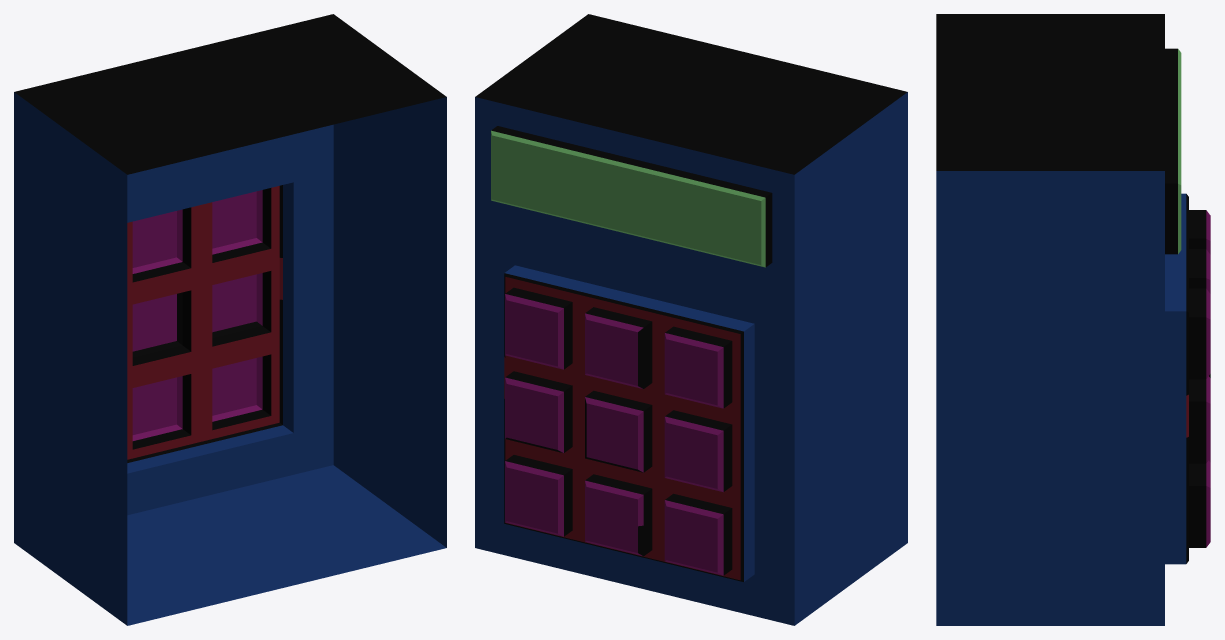
File: staticMesh_prop_CodeLock_UV.fbx
3 views of the same model, side by side, from view 1: azimuth 30°, elevation 25°; view 2: azimuth 150°, elevation 25°; view 3: azimuth 270°, elevation 25° (orthographic).
Parts seen in each view (by area): view 1: pCube2; view 2: pCube2; view 3: pCube2.
Part boxes in pixels (x1=…): pCube2: x1=14, y1=14, x2=446, y2=625; pCube2: x1=475, y1=14, x2=907, y2=625; pCube2: x1=936, y1=14, x2=1210, y2=625.
Bounding box in the file's own units: 19.95 × 26.93 × 14.71.
